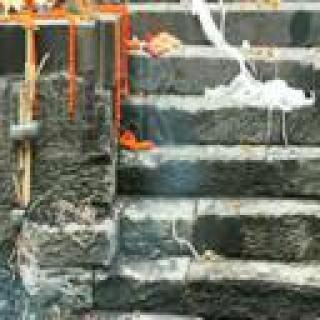fire: (0, 0, 43, 23)
